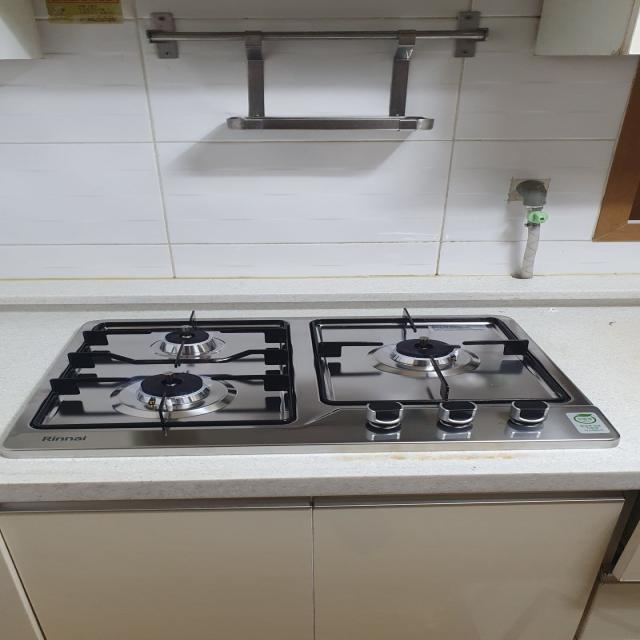knob_ON: (69, 304, 547, 414)
